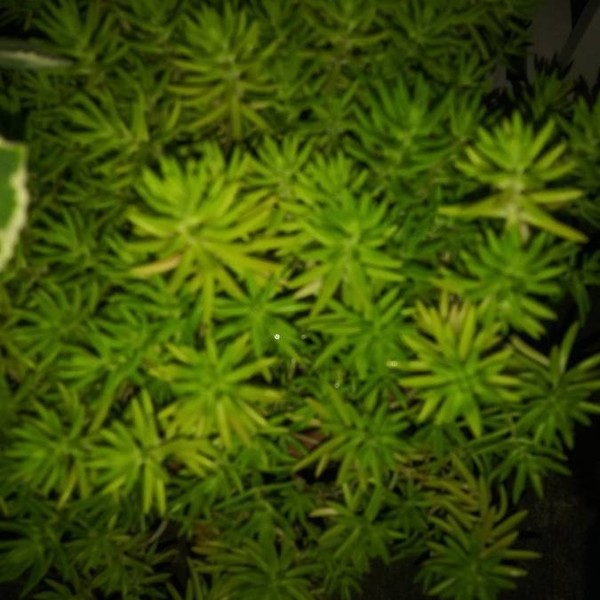obstacle: (86, 60, 544, 529)
